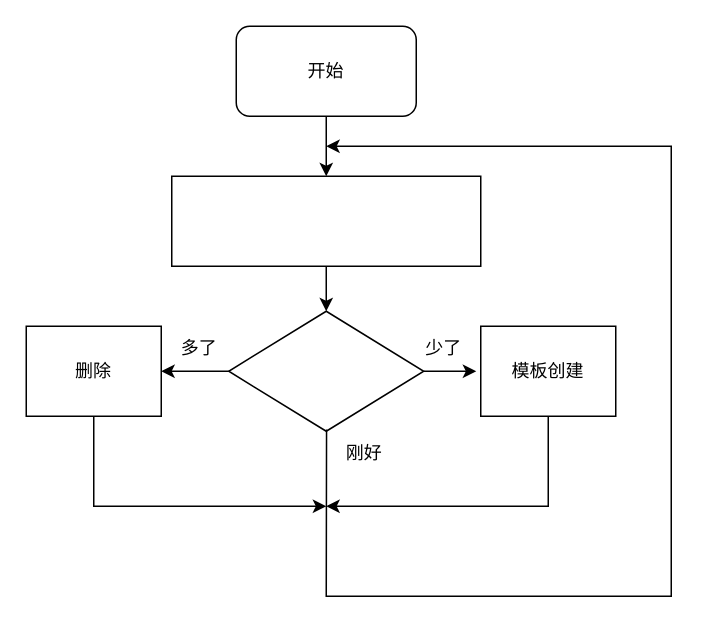
Some shapes in this 710 by 635 pixel diagram are drawn without their labels. Here are the shapes that lost their labels. From the top down, the box of each, then its label:
(170, 175, 481, 266): 寻找对应标签的pod
(227, 310, 424, 431): 比对数量
